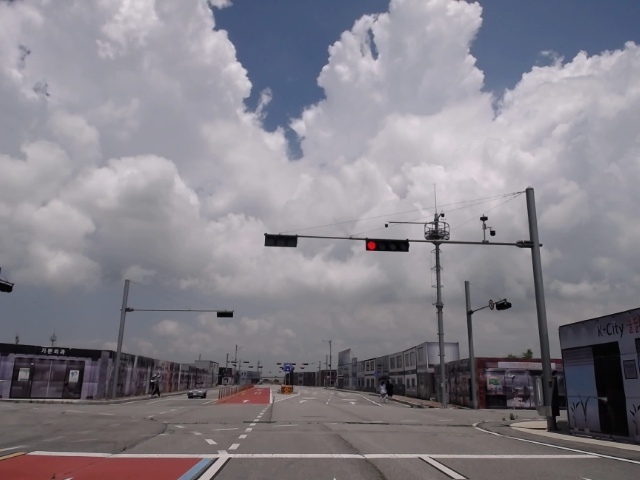red_4: (366, 239, 408, 252)
